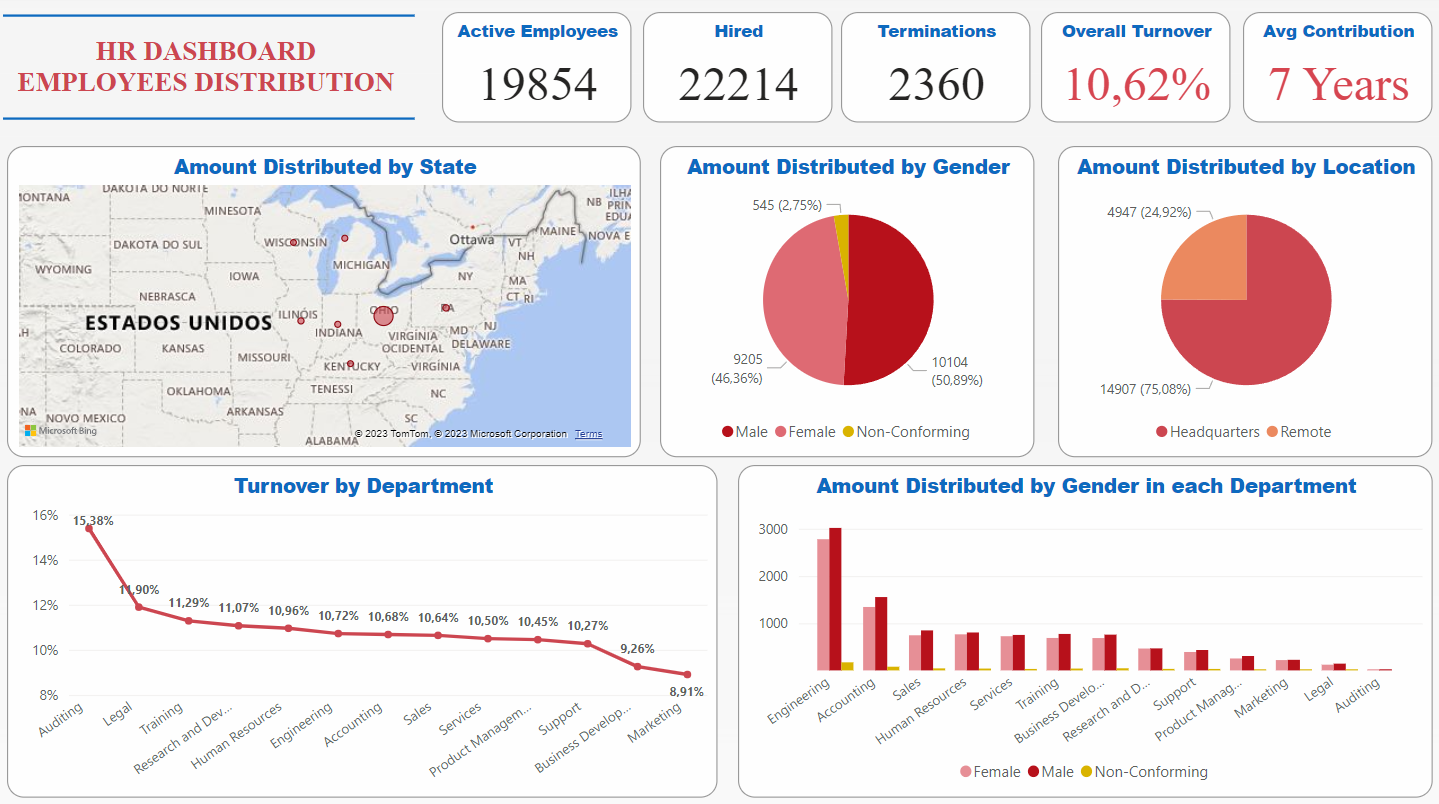

This screenshot's page, from the dashboard's own definition file:
{"tool":"powerbi","page":{"name":"Parte 1","canvas":[1280,720],"ordinal":0},"visuals":[{"type":"card","title":"Overall Turnover","fields":{"Values":["Sum(Overall_Turnover.Turnover)"]},"box":[1068.9,10.7,196.5,105],"z":0},{"type":"card","title":"Terminations","fields":{"Values":["Sum(Terminations.Qty)"]},"box":[863.7,10.7,194.5,105],"z":1000},{"type":"card","title":"Active Employees","fields":{"Values":["Sum(Current_Amount.Amount)"]},"box":[439.6,10.7,200.4,105],"z":2000},{"type":"card","title":"Hired","fields":{"Values":["Sum(Amount_hired.Hired)"]},"box":[657.5,10.7,193.6,105],"z":3000},{"type":"pieChart","title":"Amount Distributed by Gender","fields":{"Category":["Gender_Breakdown.Gender"],"Y":["Sum(Gender_Breakdown.Qty)"]},"box":[588.4,133.3,331.7,276.2],"z":4000},{"type":"map","title":"Amount Distributed by State","fields":{"Category":["Location_Distribution.State"],"Size":["Sum(Location_Distribution.Qty)"]},"box":[9.7,133.3,562.2,276.2],"z":5000},{"type":"lineChart","title":"Turnover by Department","fields":{"Category":["Turnover_Rate.Department"],"Y":["Sum(Turnover_Rate.Rate)"]},"box":[9.7,416.3,630.3,294.7],"z":6000},{"type":"clusteredColumnChart","title":"Amount Distributed by Gender in each Department","fields":{"Category":["Gender_Departments.Department"],"Y":["Sum(Gender_Departments.Qty)"],"Series":["Gender_Departments.Gender"]},"box":[657.5,416.3,615.7,294.7],"z":7000},{"type":"pieChart","title":"Amount Distributed by Location","fields":{"Category":["Location_Headquarters.Location"],"Y":["Sum(Location_Headquarters.Qty)"]},"box":[941.5,133.3,331.7,276.2],"z":8000},{"type":"textbox","box":[19.5,27.2,401.7,74.9],"z":9000},{"type":"shape","box":[19.5,10.7,401.7,16.5],"z":10000},{"type":"shape","box":[19.5,102.1,401.7,16.5],"z":11000}]}

Visuals, with their boxes in screenshot pixels (x1, y1, x2, y2), scaled from the page's 1280x720 canvas onto the 1439x804 screenshot:
"Overall Turnover" card: [1202,12,1423,129]
"Terminations" card: [971,12,1190,129]
"Active Employees" card: [494,12,720,129]
"Hired" card: [739,12,957,129]
"Amount Distributed by Gender" pieChart: [661,149,1034,457]
"Amount Distributed by State" map: [11,149,643,457]
"Turnover by Department" lineChart: [11,465,720,794]
"Amount Distributed by Gender in each Department" clusteredColumnChart: [739,465,1431,794]
"Amount Distributed by Location" pieChart: [1058,149,1431,457]
textbox: [22,30,474,114]
shape: [22,12,474,30]
shape: [22,114,474,132]
